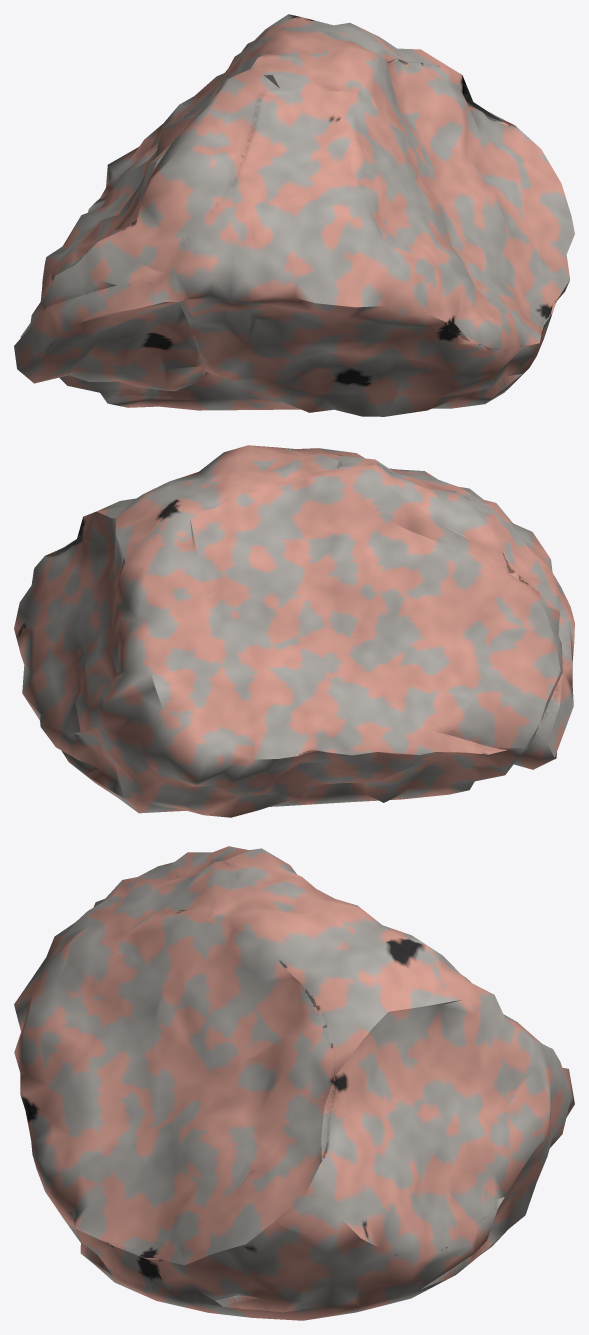
The model's file is granito_rosa.fbx.
3 views of the same model, one above another, from view 1: azimuth 30°, elevation 25°; view 2: azimuth 150°, elevation 25°; view 3: azimuth 270°, elevation 25° (orthographic). The views are drawn at different scales.
Visible parts, largest first — view 1: granito_rosa; view 2: granito_rosa; view 3: granito_rosa.
Boxes of the visible parts, x1,y1,x2,y2 form: granito_rosa: (14, 14, 574, 416); granito_rosa: (14, 445, 574, 817); granito_rosa: (14, 846, 574, 1320).
Size of the model in its own units: 2.6 by 1.44 by 2.21.
Materials: 1 (1 with a texture image).
